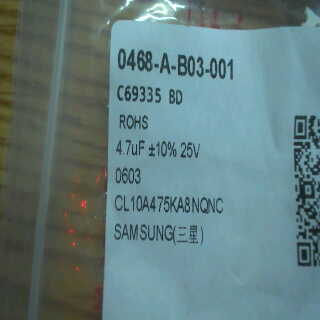4.7uF: (111, 136, 149, 156)
